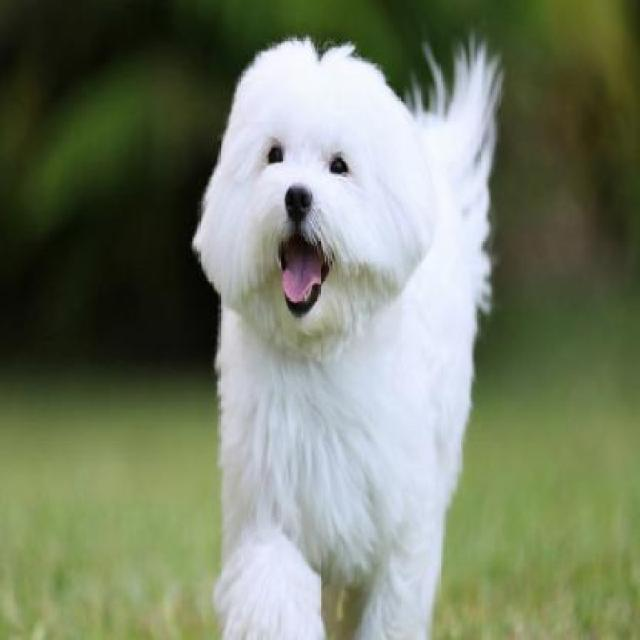Dog: (189, 20, 505, 638)
